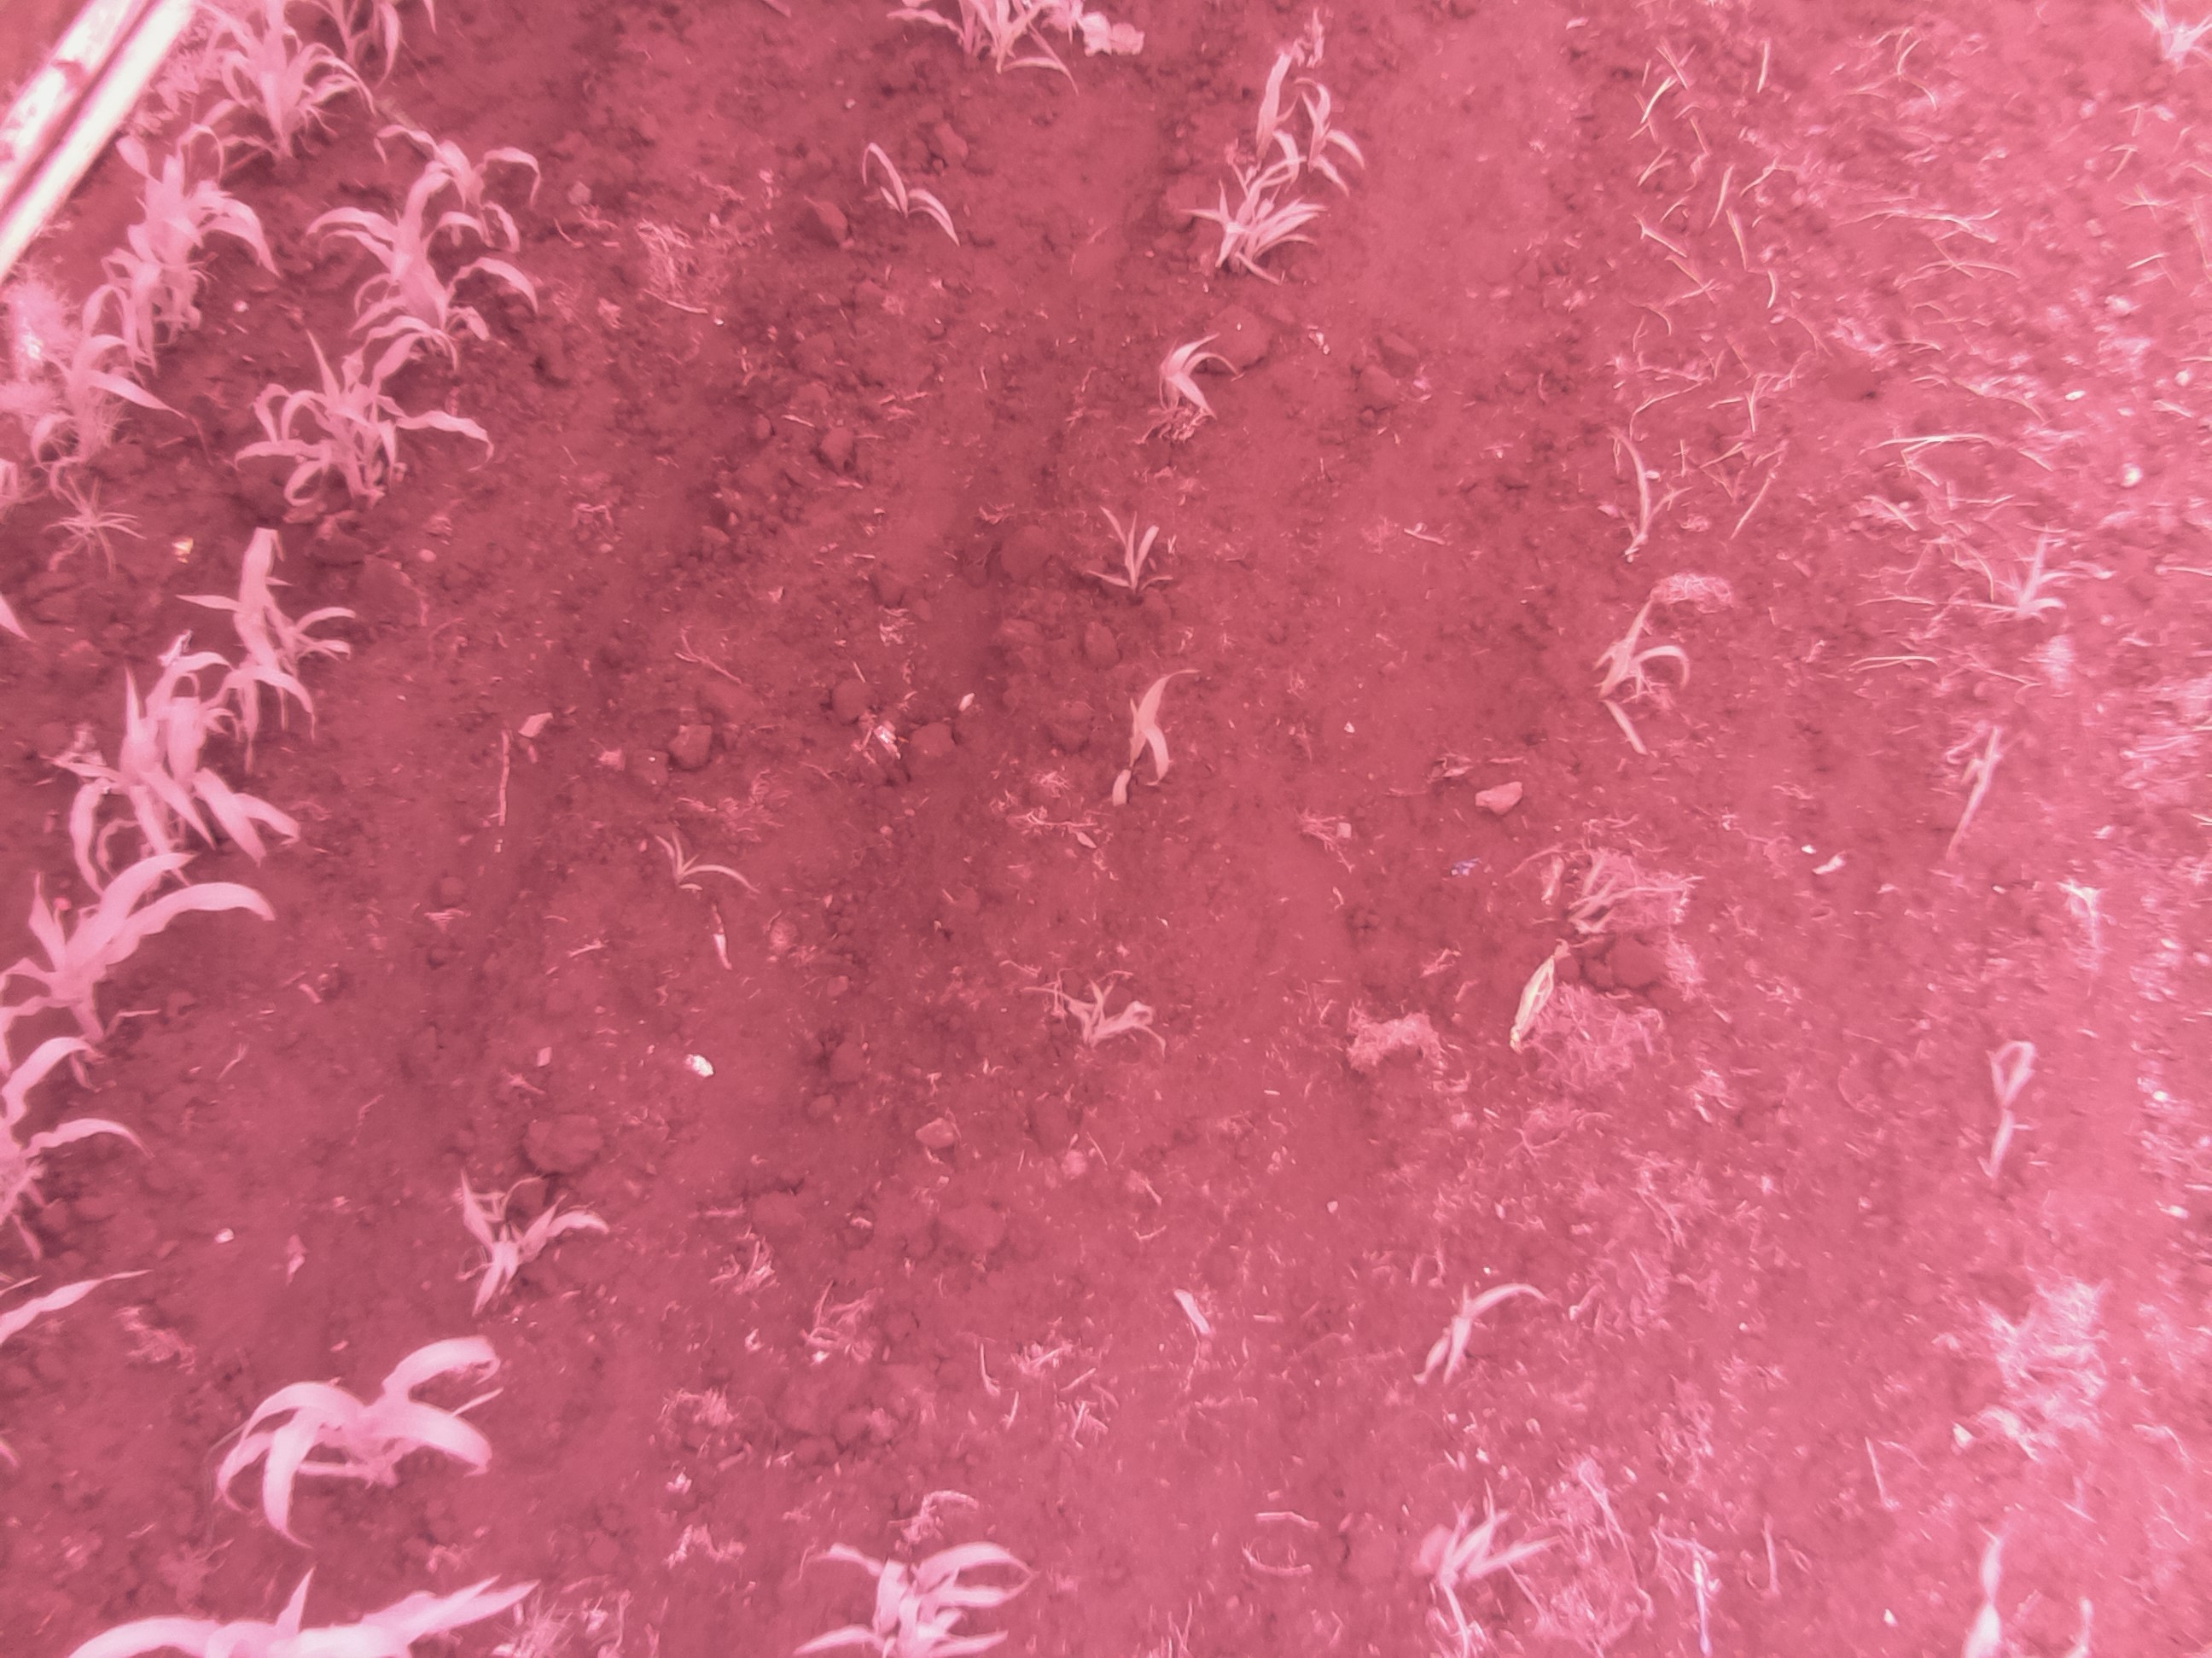Maiz: (186, 1346, 519, 1524), (155, 531, 395, 721), (5, 881, 300, 1029), (230, 334, 493, 500), (59, 677, 298, 855), (294, 190, 517, 374), (779, 1526, 1055, 1658), (192, 0, 374, 171), (31, 286, 165, 495), (136, 162, 277, 343), (437, 1177, 613, 1318), (388, 115, 554, 242), (1411, 1505, 1559, 1632), (1399, 1249, 1541, 1378), (1089, 639, 1204, 794), (836, 118, 970, 244), (1585, 580, 1686, 740), (1197, 160, 1324, 287), (1047, 958, 1170, 1073), (1597, 427, 1698, 559), (82, 244, 176, 378), (1076, 493, 1177, 617), (1963, 1028, 2036, 1183), (2003, 521, 2080, 660), (1230, 57, 1303, 199), (1284, 73, 1362, 202), (646, 827, 756, 914), (1132, 320, 1228, 420), (1947, 723, 2013, 853), (1505, 939, 1568, 1055)
